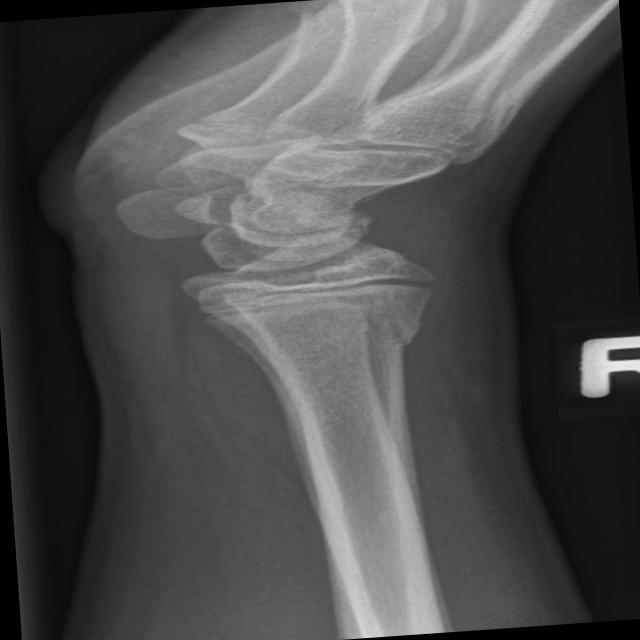fracture: (176, 254, 465, 329)
